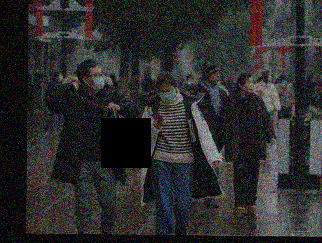with_mask: (87, 69, 106, 92), (156, 85, 176, 102), (56, 74, 64, 84)
without_mask: (242, 78, 255, 93), (209, 70, 221, 83)
